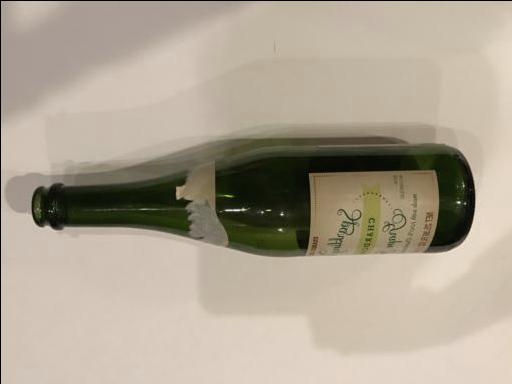alcohol: (30, 144, 474, 257)
glass: (30, 144, 474, 257)
sodocalcique: (30, 144, 474, 257)
